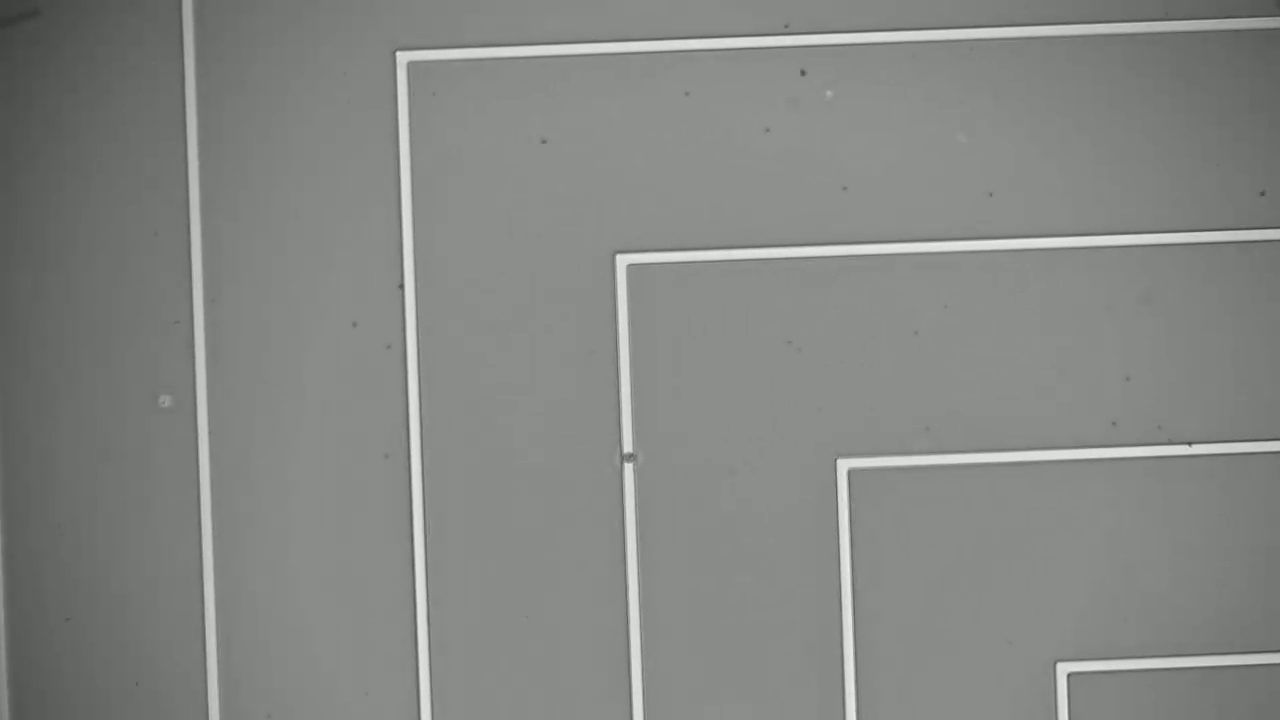stains_enbedded: (606, 441, 648, 473)
